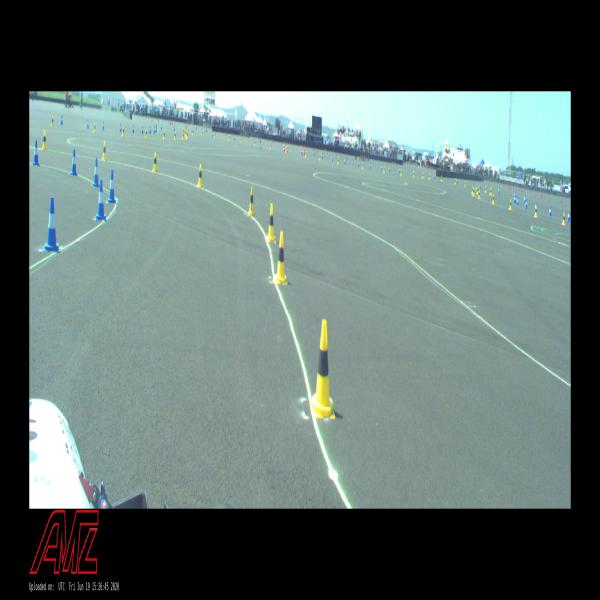blue_cone: (43, 197, 61, 252), (95, 180, 107, 221), (108, 170, 117, 204), (92, 158, 100, 187), (70, 150, 78, 176), (32, 140, 39, 166), (548, 206, 552, 217), (567, 210, 570, 222), (513, 196, 516, 204), (525, 200, 527, 209), (120, 123, 122, 132), (61, 116, 63, 125), (155, 124, 157, 133), (102, 121, 104, 130), (516, 197, 518, 205), (87, 120, 89, 128), (524, 195, 526, 203), (132, 125, 134, 133), (149, 126, 151, 134), (498, 187, 500, 194), (331, 155, 333, 162), (357, 160, 359, 167), (479, 183, 481, 190), (398, 167, 400, 173), (369, 163, 371, 169), (321, 153, 323, 159), (388, 166, 390, 172), (142, 125, 143, 134), (154, 126, 155, 134), (381, 164, 382, 171), (161, 123, 162, 130), (174, 126, 175, 132), (344, 158, 345, 164)
yellow_cone: (311, 320, 336, 418), (274, 231, 288, 284), (266, 204, 276, 242), (248, 186, 255, 216), (198, 164, 204, 188), (153, 151, 158, 172), (42, 130, 47, 150), (102, 141, 107, 160), (562, 213, 566, 225), (534, 206, 538, 217), (51, 116, 54, 127), (93, 122, 96, 133), (122, 126, 125, 136), (145, 128, 148, 138), (492, 194, 495, 204), (509, 199, 512, 209), (478, 190, 481, 199), (472, 188, 475, 195), (163, 130, 165, 140), (484, 186, 487, 192), (174, 132, 176, 140), (471, 186, 473, 194), (182, 132, 184, 140), (476, 186, 478, 194), (475, 183, 477, 190), (489, 188, 491, 195), (383, 166, 385, 173), (454, 178, 456, 185), (422, 172, 424, 178), (464, 181, 466, 187), (337, 158, 339, 164), (319, 154, 321, 160), (362, 162, 363, 169), (187, 132, 188, 139), (401, 170, 402, 176), (413, 172, 414, 178), (429, 174, 430, 180), (441, 176, 442, 182), (183, 128, 184, 134)
